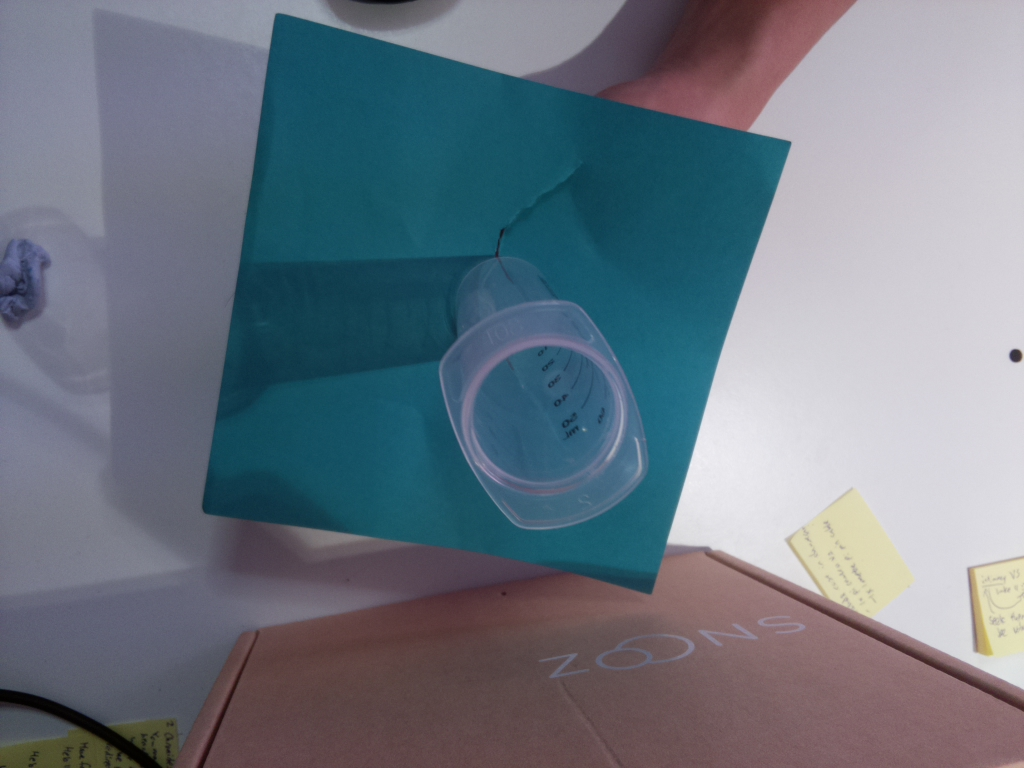clean: (438, 296, 651, 530)
